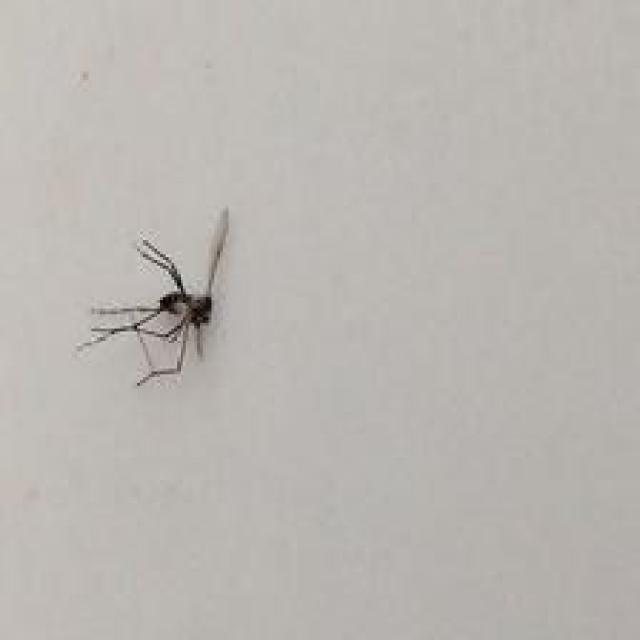Aedes albopictus: (76, 204, 230, 387)
